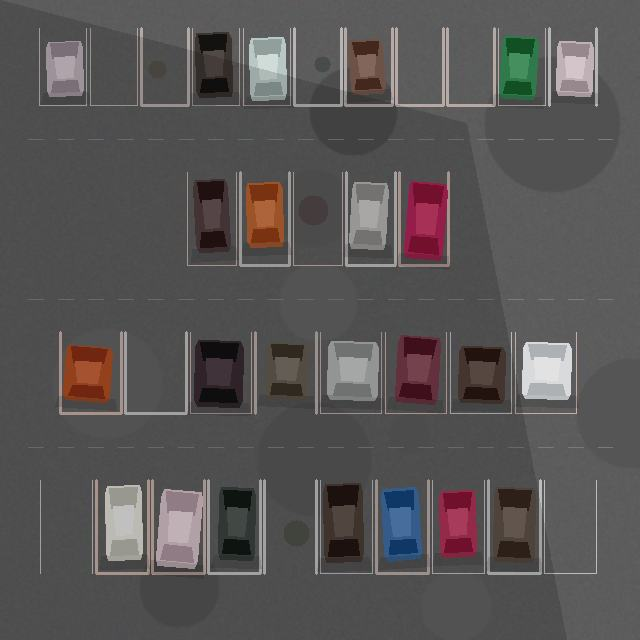space-empty: (125, 332, 186, 413), (40, 480, 92, 573), (264, 480, 316, 573), (544, 480, 596, 573), (293, 172, 342, 265), (90, 28, 137, 105), (141, 28, 188, 105), (294, 28, 341, 105), (396, 28, 443, 105), (447, 28, 494, 105)
space-occupied: (60, 332, 121, 413), (190, 332, 251, 413), (255, 332, 316, 413), (320, 332, 381, 413), (385, 332, 446, 413), (450, 332, 511, 413), (515, 332, 576, 413), (96, 480, 148, 573), (152, 480, 204, 573), (208, 480, 260, 573), (320, 480, 372, 573), (376, 480, 428, 573), (432, 480, 484, 573), (488, 480, 540, 573), (187, 172, 236, 265), (240, 172, 289, 265), (346, 172, 395, 265), (399, 172, 448, 265), (39, 28, 86, 105), (192, 28, 239, 105), (243, 28, 290, 105), (345, 28, 392, 105), (498, 28, 545, 105), (549, 28, 596, 105)
